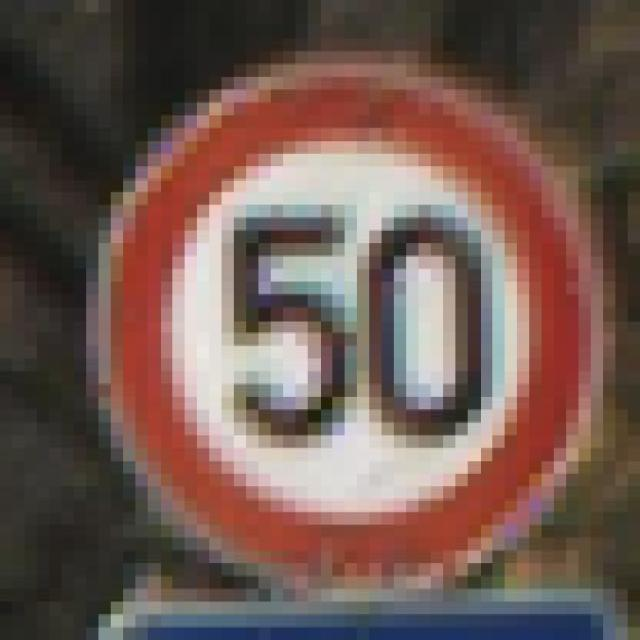Speed limit 50: (107, 49, 595, 596)
